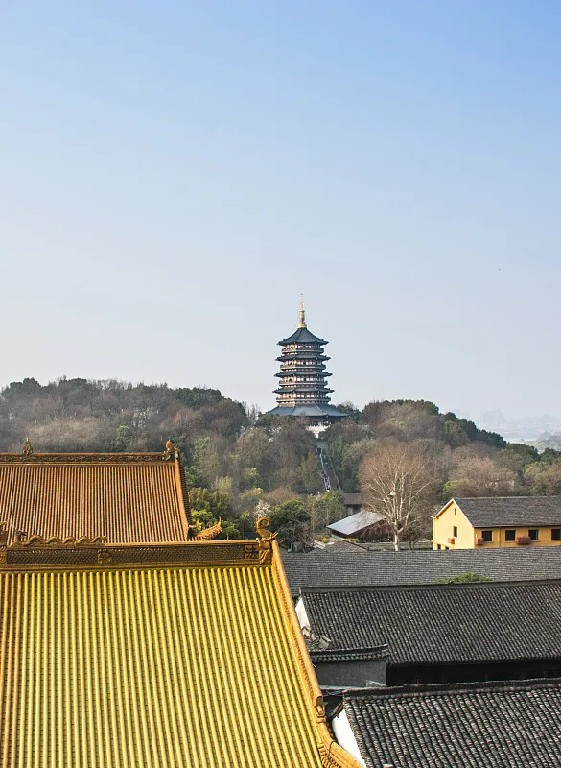Leifeng: (254, 292, 361, 429)
